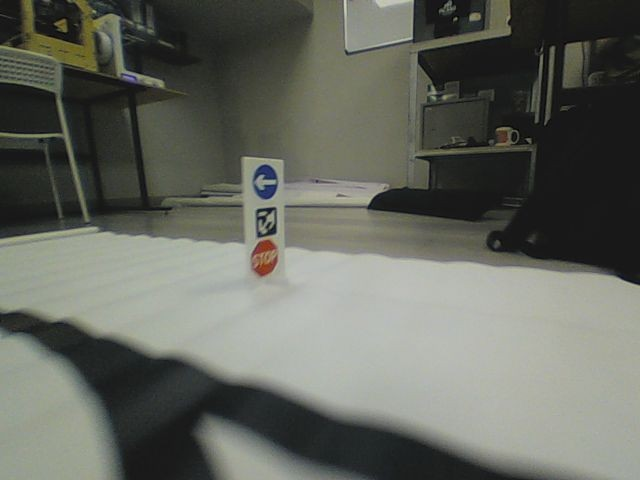Stop: (250, 238, 281, 279)
